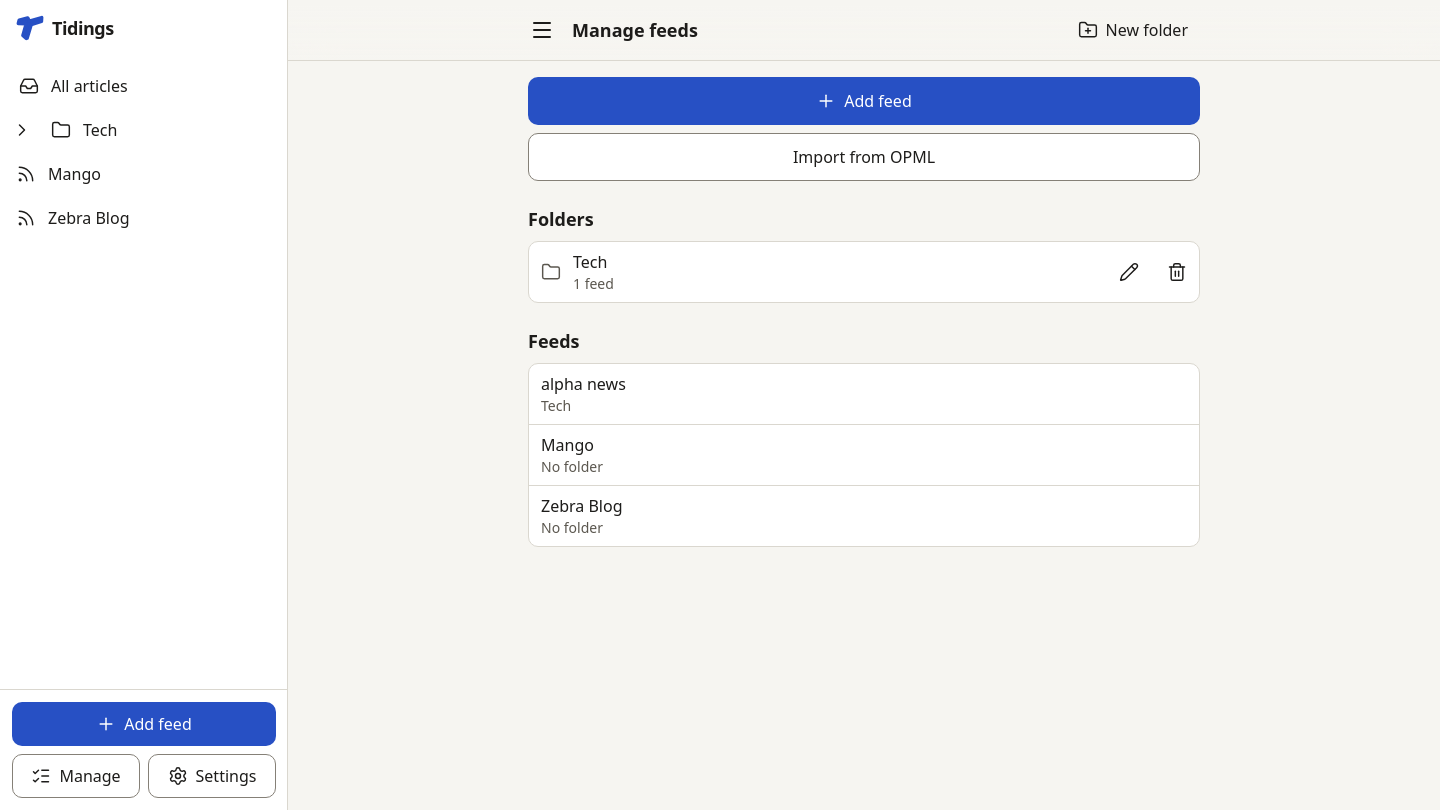
AC2 and AC3: names › a duplicate shows the inline error and keeps the sheet open
Expected: the heading "Folders" is shown, [528, 207, 594, 231]
Click the button "New folder" at coordinates (1133, 30), box [1066, 8, 1200, 52]
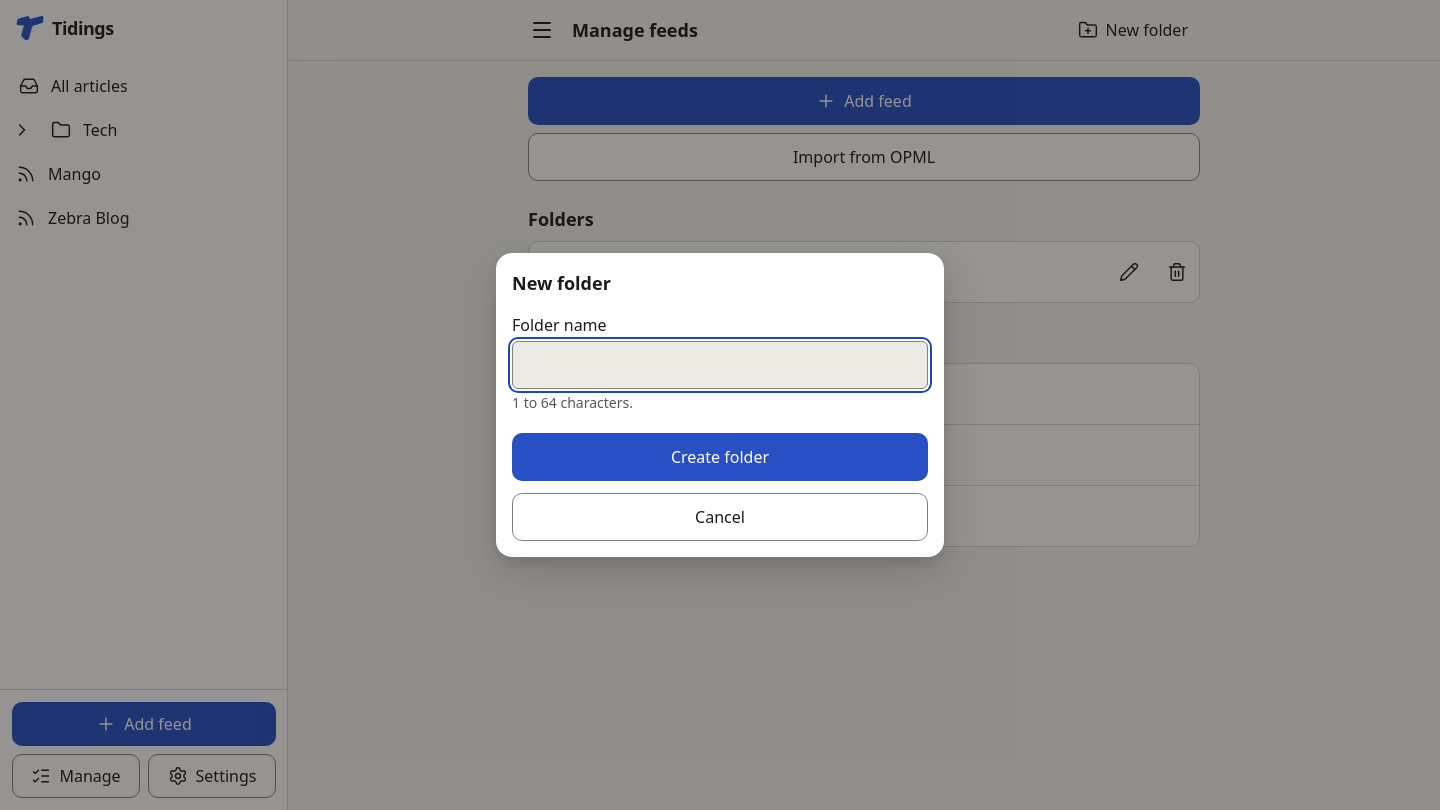
Type "tech" into the field labelled "Folder name" at coordinates (720, 365), box [512, 341, 928, 389]
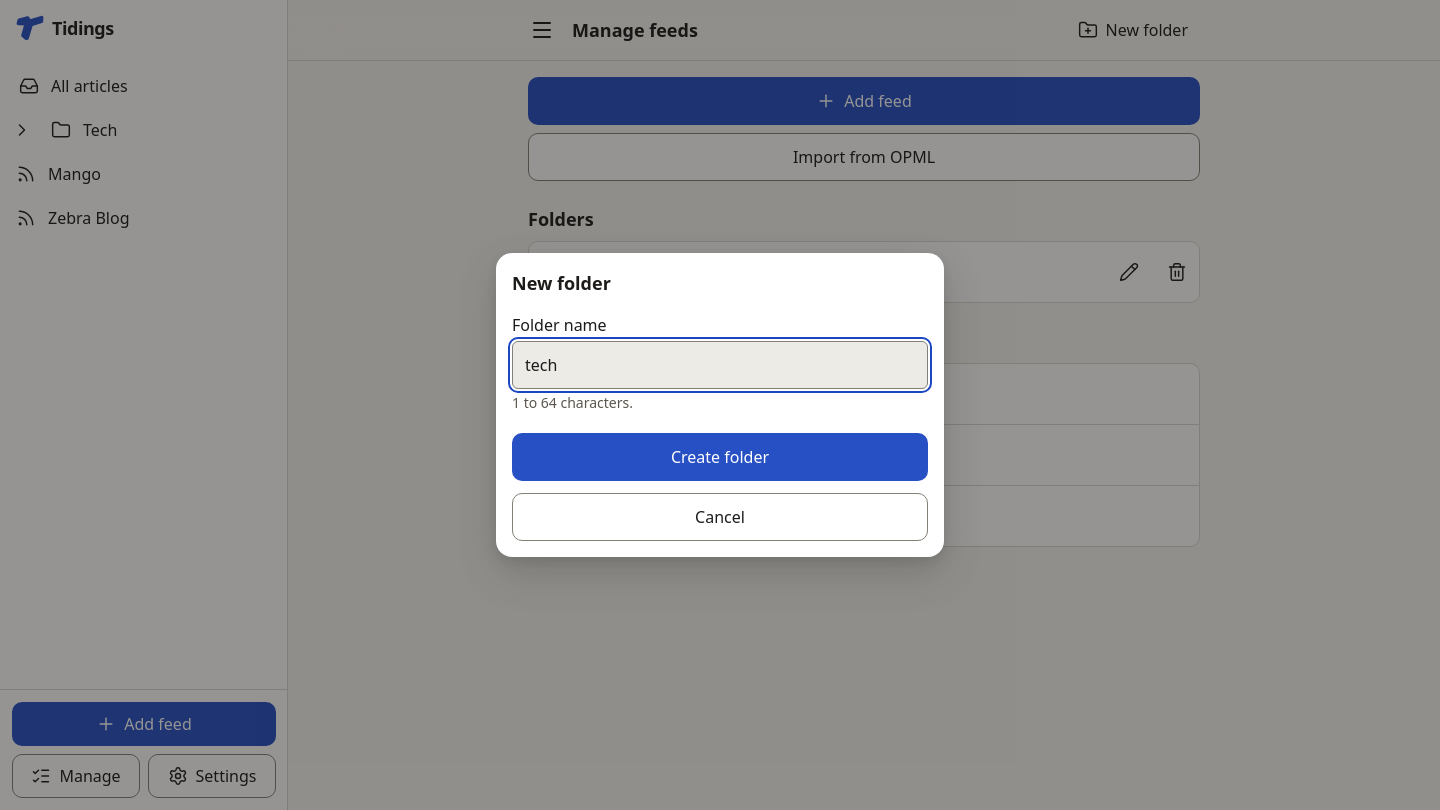
Click the button "Create folder" at coordinates (720, 457), box [512, 433, 928, 481]
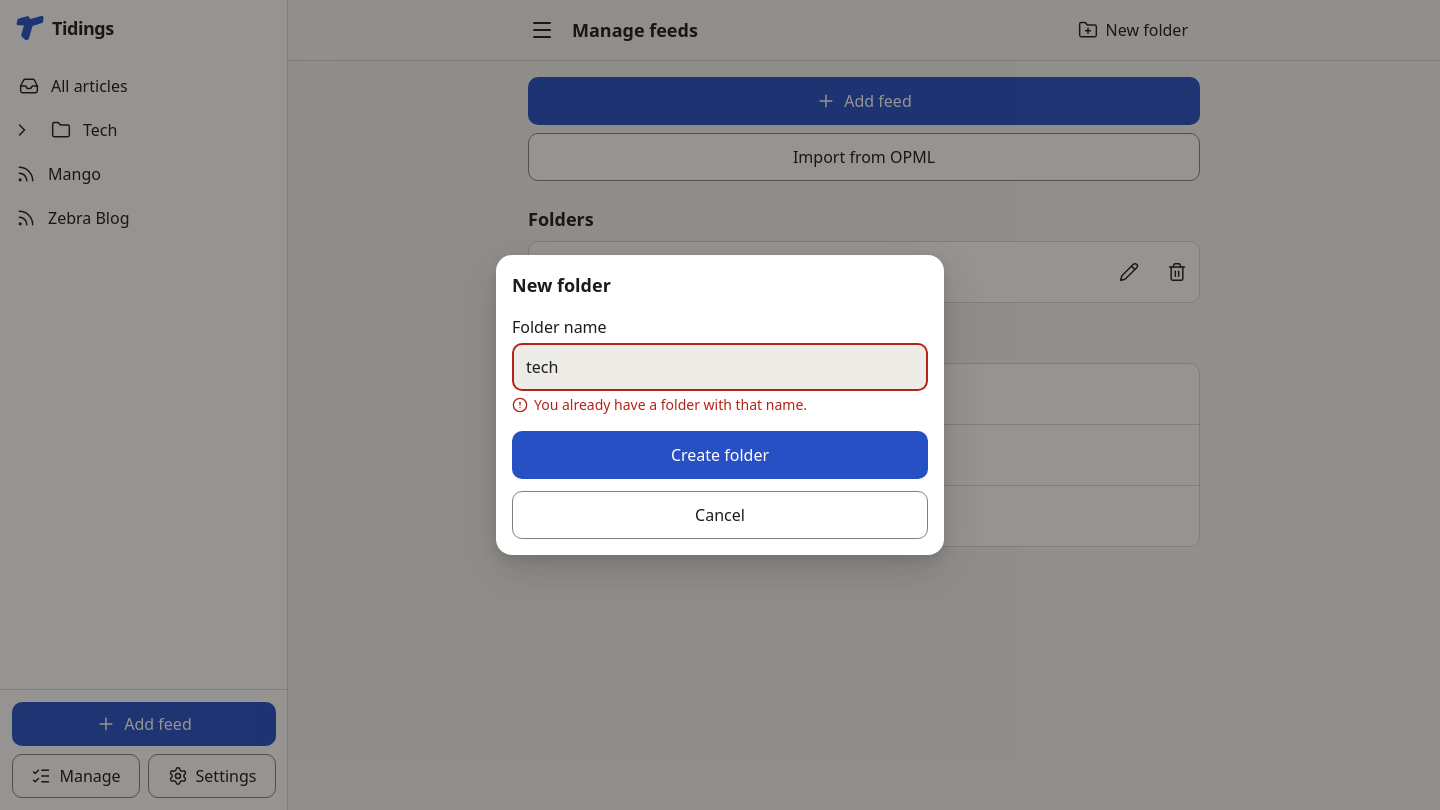
Result: the dialog is shown at [496, 255, 944, 555]
Result: the text "You already have a folder with that name." is shown at [534, 395, 807, 415]
